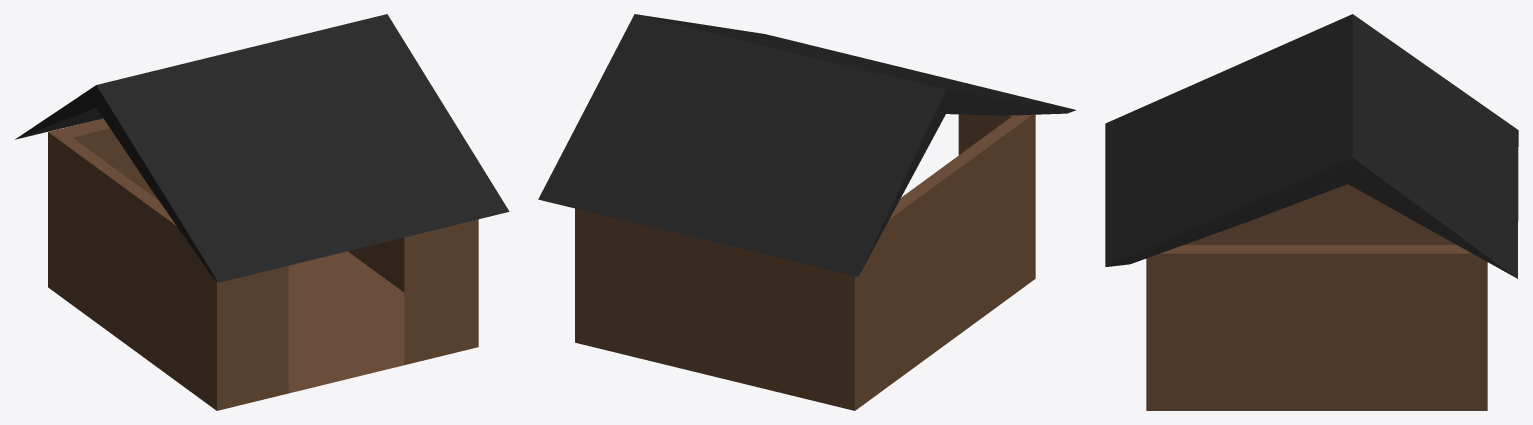
File: toilet.glb
3 views of the same model, side by side, from view 1: azimuth 30°, elevation 25°; view 2: azimuth 150°, elevation 25°; view 3: azimuth 270°, elevation 25° (orthographic). The views are drawn at different scales.
Visible parts, largest first — view 1: 立方体.006; view 2: 立方体.006; view 3: 立方体.006.
Boxes of the visible parts, <box> form: 立方体.006: <box>15,14,509,410</box>; 立方体.006: <box>538,14,1076,410</box>; 立方体.006: <box>1105,14,1518,410</box>.
Size of the model in its own units: 6.85 by 5.58 by 8.08.
